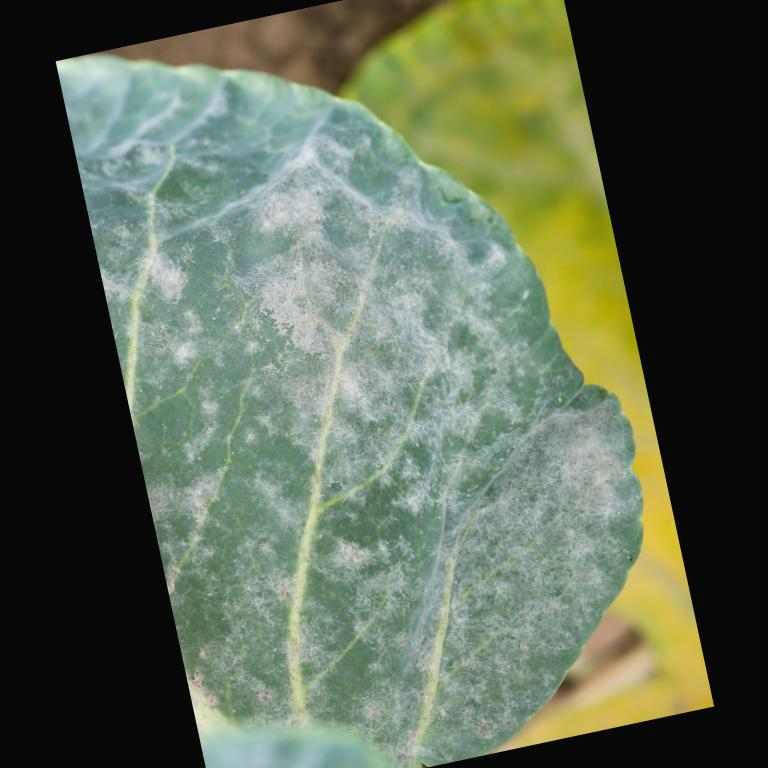powdery-mildew: (147, 142, 428, 490), (288, 437, 581, 669)
